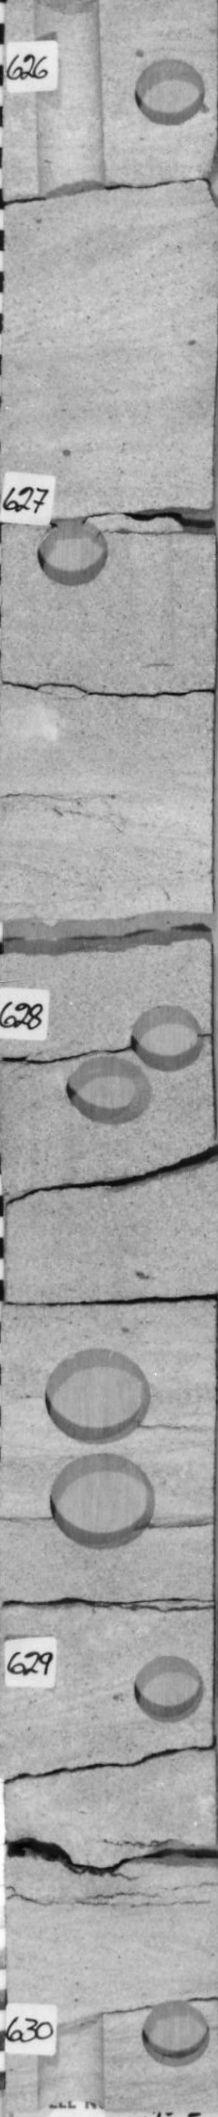hplug: (56, 1053, 156, 1129), (127, 1644, 213, 1725), (30, 512, 112, 591), (125, 996, 209, 1072), (130, 53, 210, 131), (135, 2000, 218, 2072)
scal: (41, 1343, 158, 1449), (41, 1453, 162, 1553)
vplug: (30, 3, 116, 198), (30, 2018, 111, 2117)
